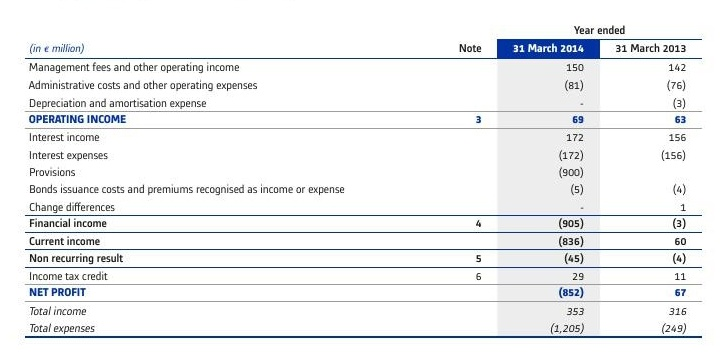table: (0, 0, 728, 363)
